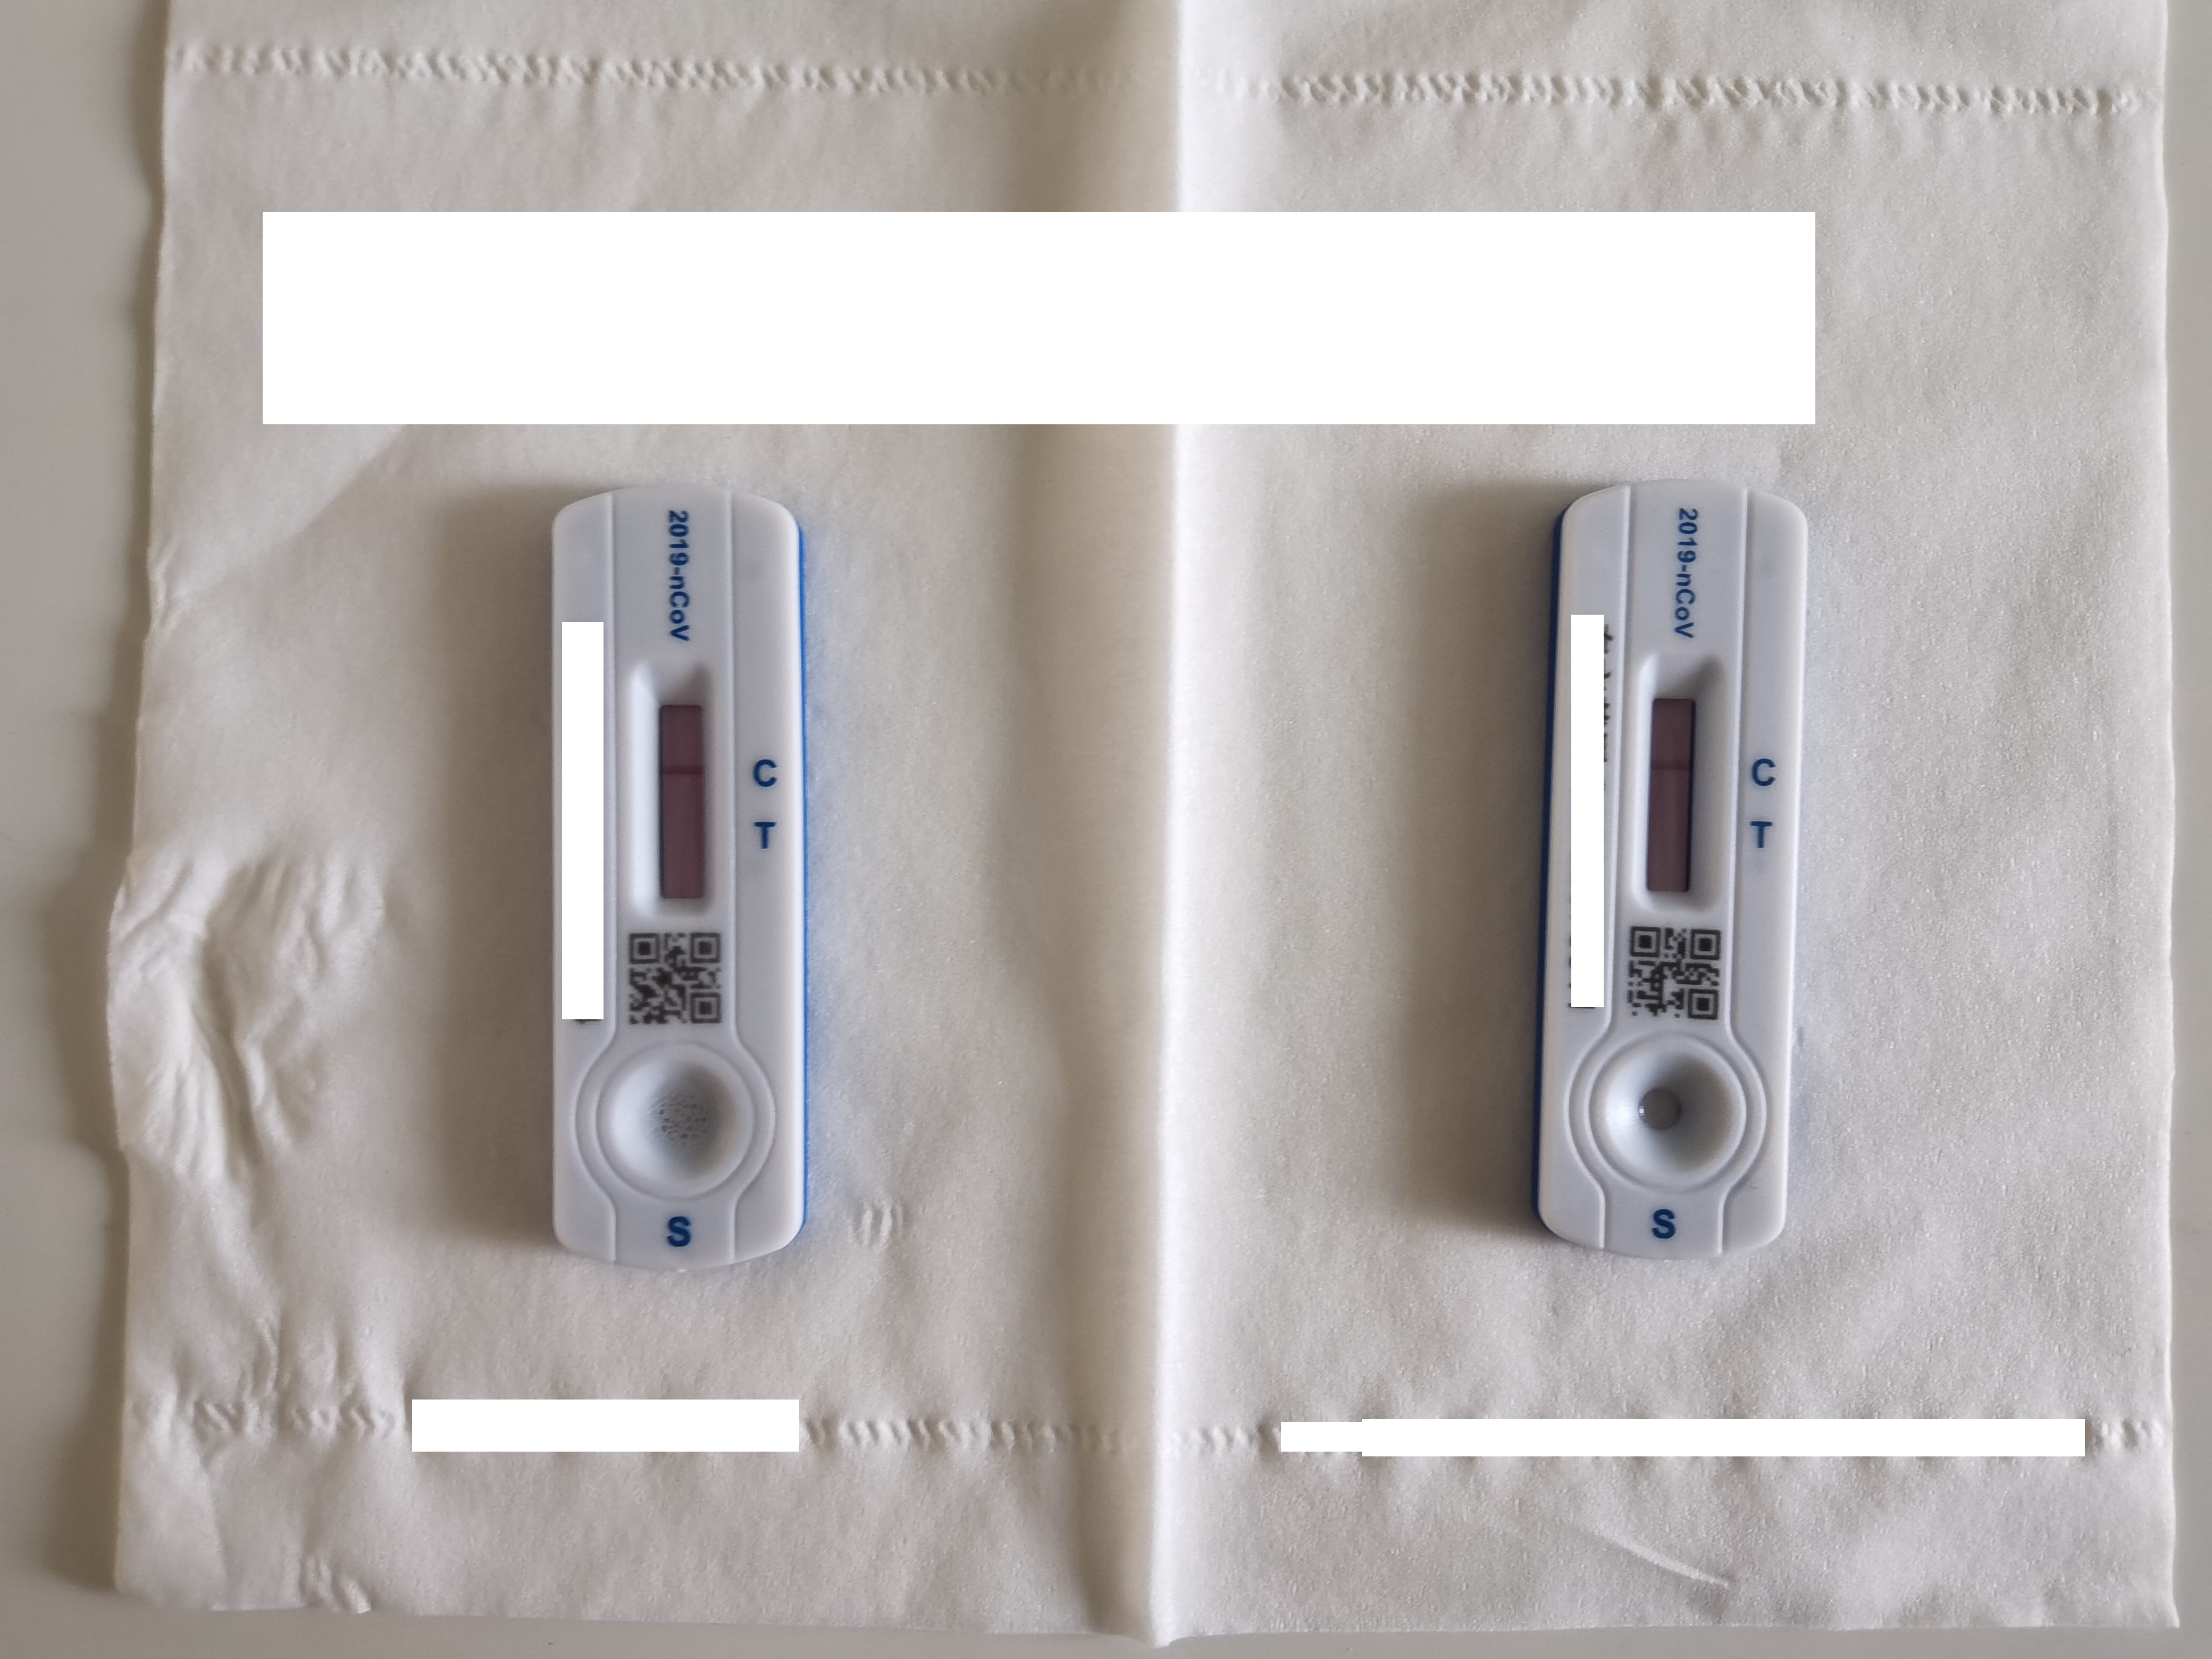negative: (1627, 664, 1721, 918), (632, 662, 723, 918)
